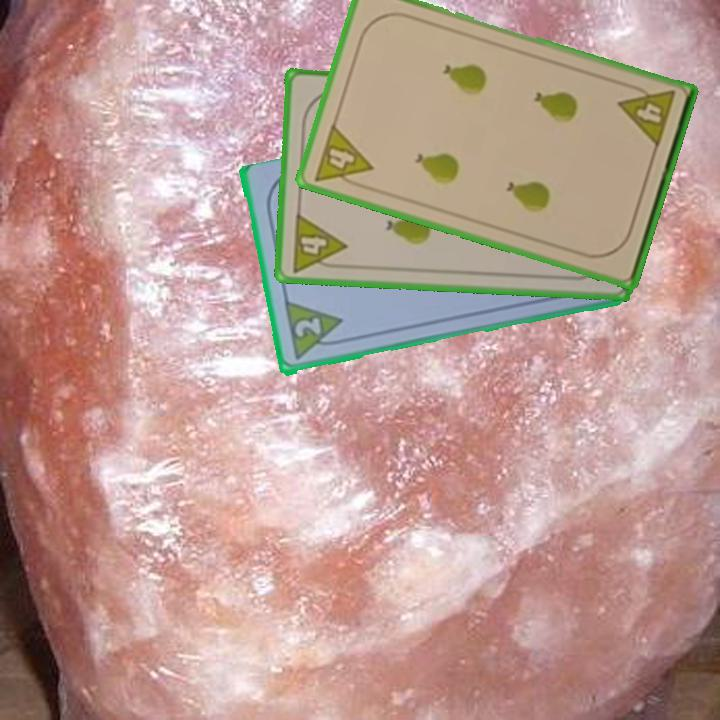2p: (280, 299, 348, 364)
4p: (311, 120, 376, 193), (615, 80, 678, 151), (288, 210, 349, 275)
